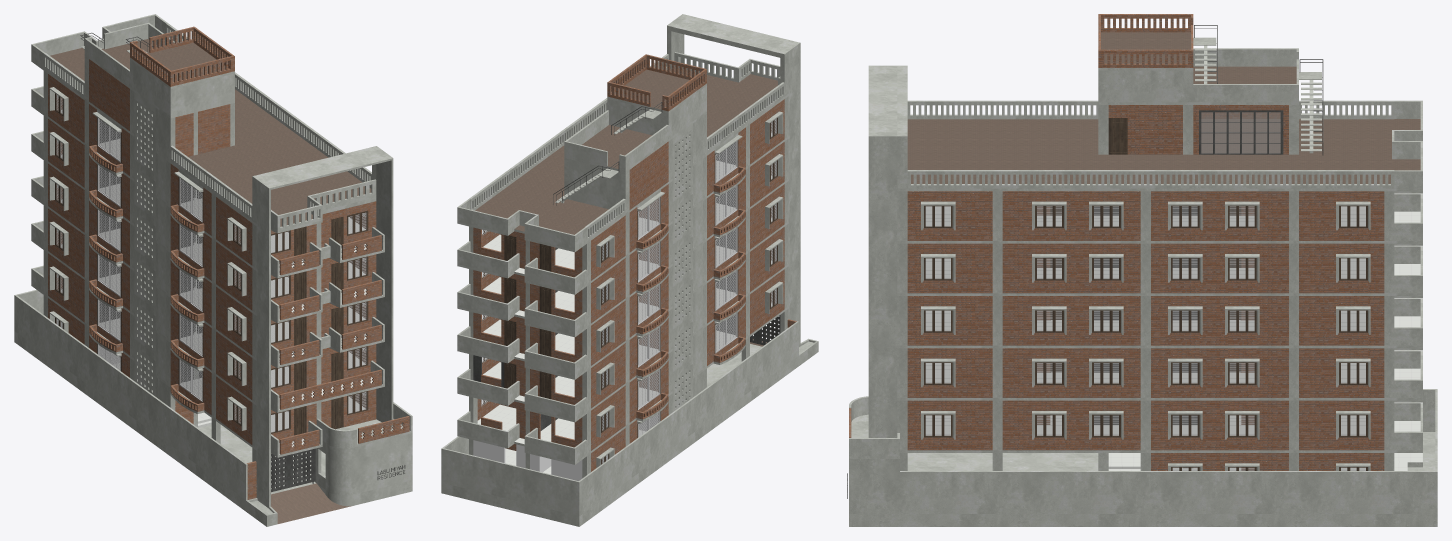
The picture shows the model from 3 angles, left to right: view 1: azimuth 30°, elevation 25°; view 2: azimuth 150°, elevation 25°; view 3: azimuth 270°, elevation 25°; orthographic projection. The views are drawn at different scales.
Parts seen in each view (by area): view 1: Geom3D (×44), Geom3D_ (×7), Geom3D_Union (×6), Geom3D_new block.dwg (×5); view 2: Geom3D (×36), Geom3D_ (×6), Geom3D_Union (×6), Geom3D_gtertgege#1; view 3: Geom3D (×69), Geom3D_ (×6).
Part boxes in pixels (x1,y1,x2,y2): Geom3D (×44): (14,14,412,526); Geom3D_ (×7): (43,23,380,492); Geom3D_Union (×6): (134,99,155,396); Geom3D_new block.dwg (×5): (99,119,202,382); Geom3D (×36): (441,14,818,526); Geom3D_ (×6): (469,22,788,241); Geom3D_Union (×6): (672,130,692,411); Geom3D_gtertgege#1: (473,413,658,480); Geom3D (×69): (849,32,1437,526); Geom3D_ (×6): (897,14,1394,188).
Size of the model in its own units: 10.36 by 25.42 by 31.17.
10 materials, 7 textured.
